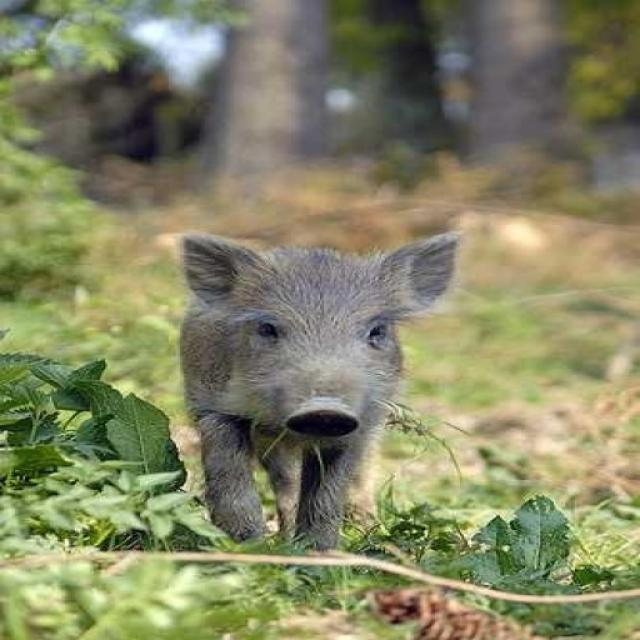pig: (141, 198, 504, 587)
